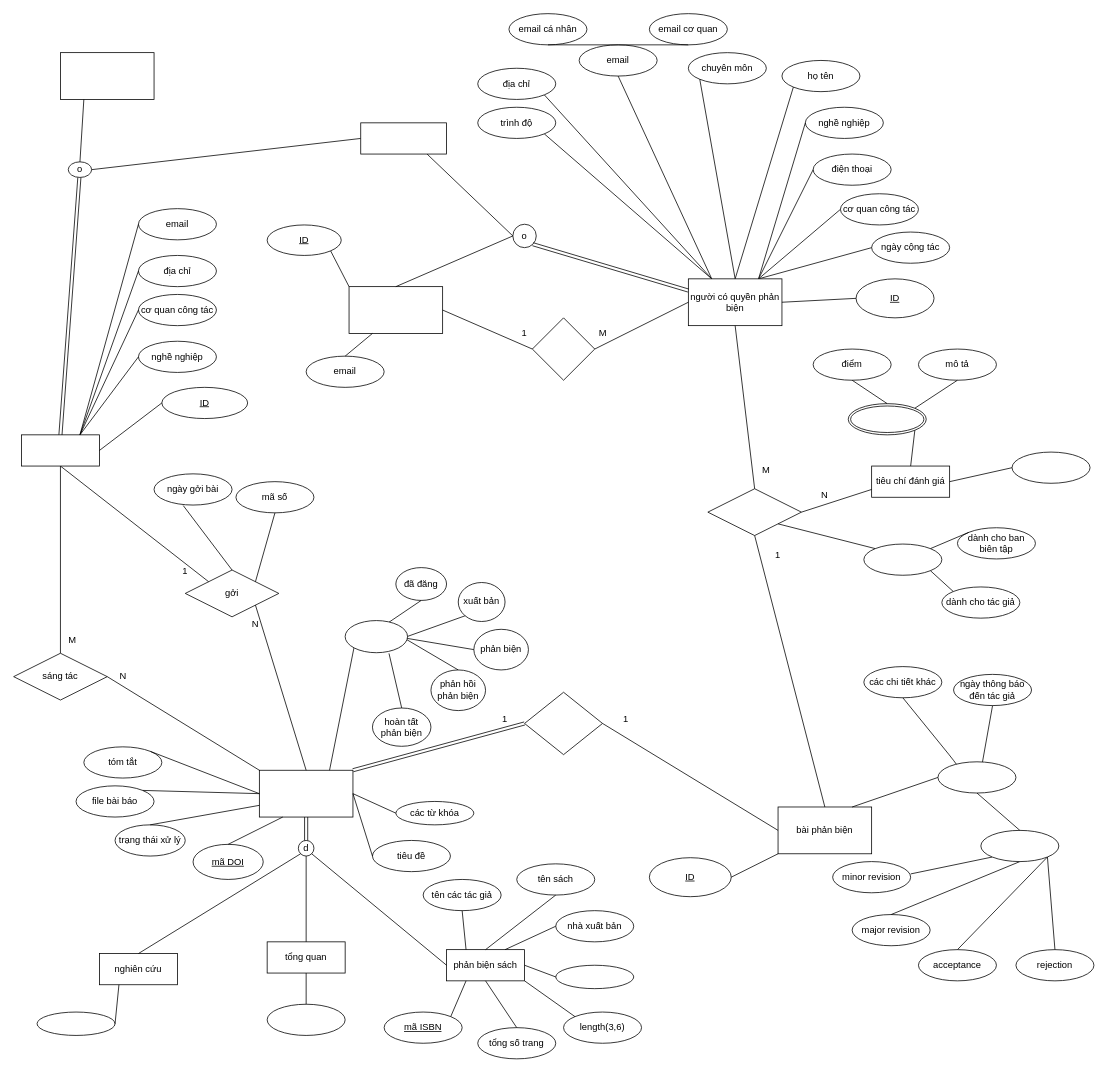
Image size: 1108x1073. Some labels were removed from this diagram. Each missing label, with the centre of its shape:
"ban biên tập" goes at (x=395, y=309).
"bài báo" goes at (x=306, y=793).
"ghi chú" goes at (x=902, y=559).
"kết quả" goes at (x=1019, y=846).
"kết quả phản biện" goes at (x=976, y=777).
"length (10,20)" goes at (x=75, y=1023).
"length(3,10)" goes at (x=305, y=1019).
"mức đánh giá" goes at (x=886, y=419).
"người phản biện" goes at (x=403, y=138).
"năm xuất bản" goes at (x=594, y=976).
"nội dung đánh giá" goes at (x=1050, y=467).
"phân công phản biện" goes at (x=563, y=348).
"trạng thái" goes at (x=376, y=636).
"tác giả" goes at (x=60, y=450).
"tác giả liên lạc" goes at (x=107, y=75).
"viết phản biện" goes at (x=754, y=512).
"được xem xét phản biện" goes at (x=563, y=723).
